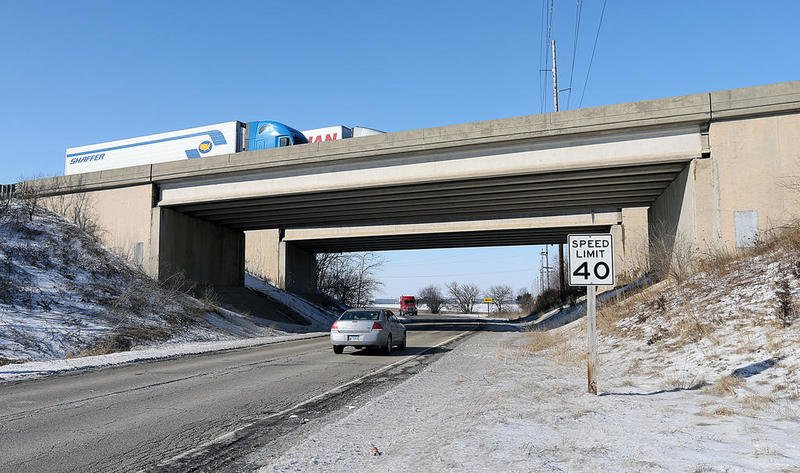bridge: (1, 79, 797, 285)
